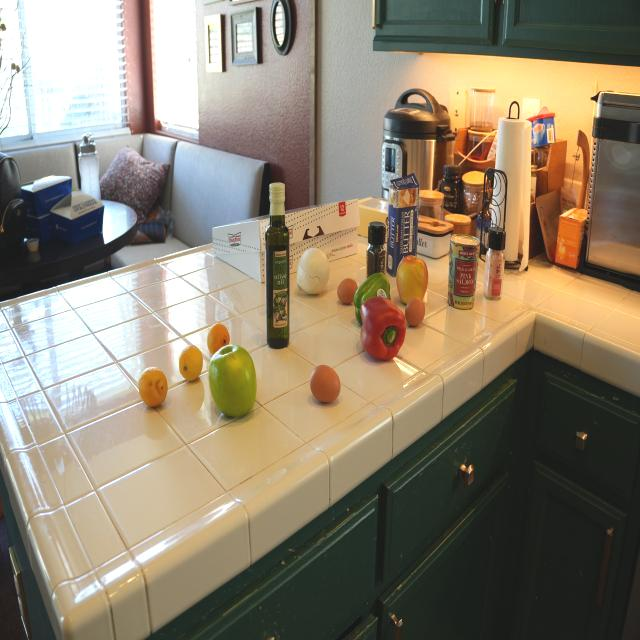bell_pepper: (361, 302, 411, 366), (353, 276, 393, 326), (366, 220, 388, 287)
egg: (307, 363, 344, 407), (337, 274, 359, 304), (404, 304, 431, 328)
onion: (294, 250, 334, 296)
